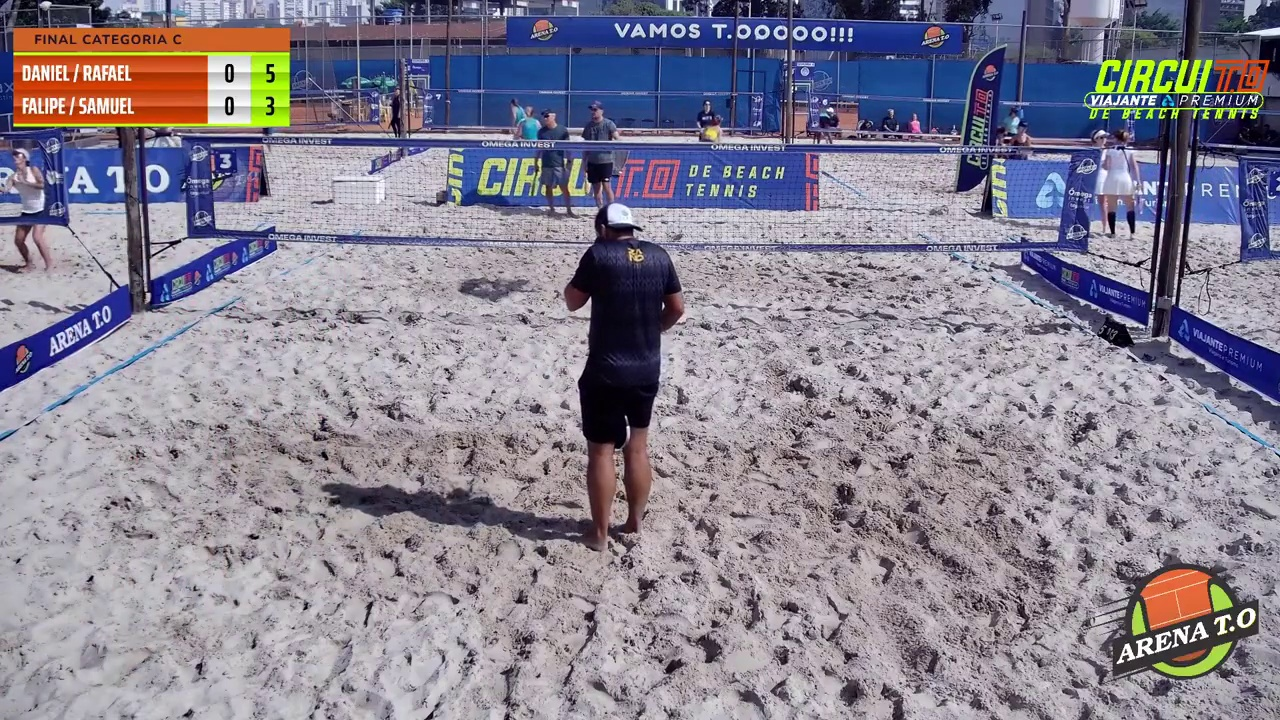court_line: (645, 0, 807, 471)
